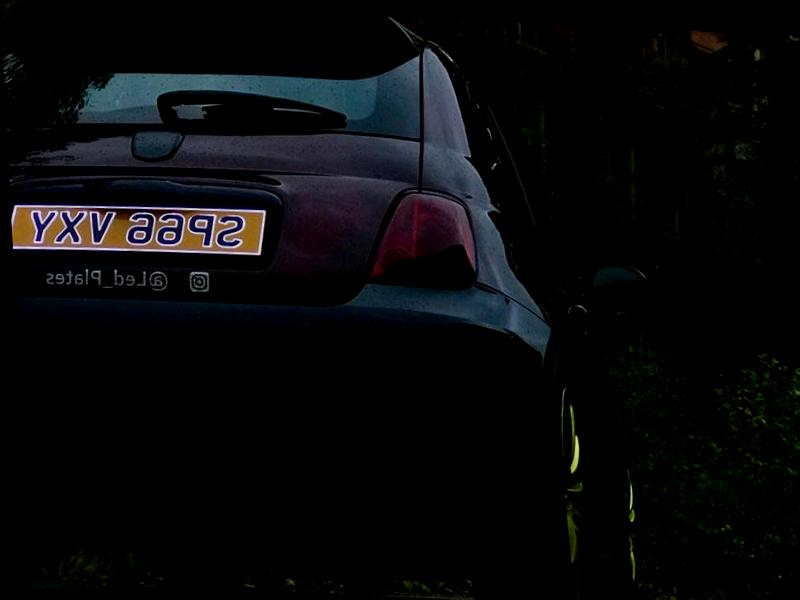License_Plate: (9, 183, 279, 270)
